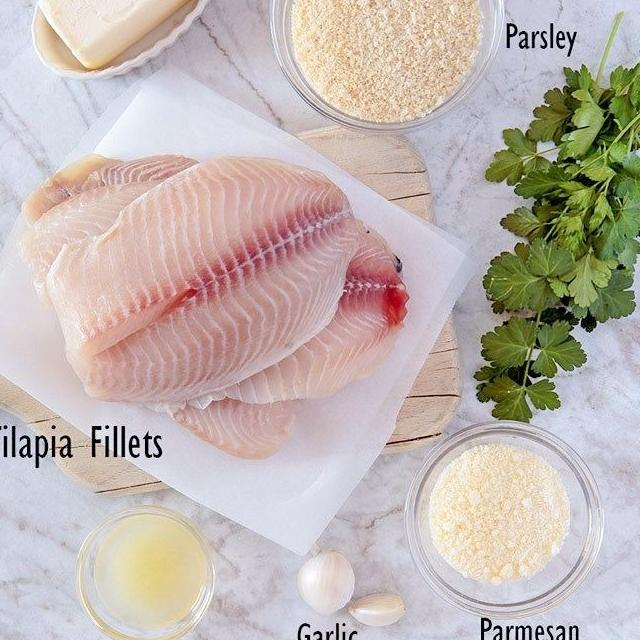fish: (52, 146, 366, 419)
